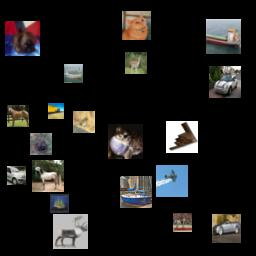airplane: (166, 121, 198, 153), (156, 165, 188, 197)
automobile: (209, 66, 241, 98), (212, 214, 241, 243), (7, 166, 26, 185)
bird: (73, 111, 95, 133)
cat: (122, 11, 151, 40)
deer: (53, 214, 88, 249), (125, 52, 147, 74)
dog: (5, 21, 40, 56)
frog: (108, 124, 143, 159), (30, 133, 52, 155)
ship: (206, 19, 241, 54), (120, 176, 152, 208), (64, 64, 83, 83), (50, 194, 69, 213)
truck: (48, 103, 64, 119)
